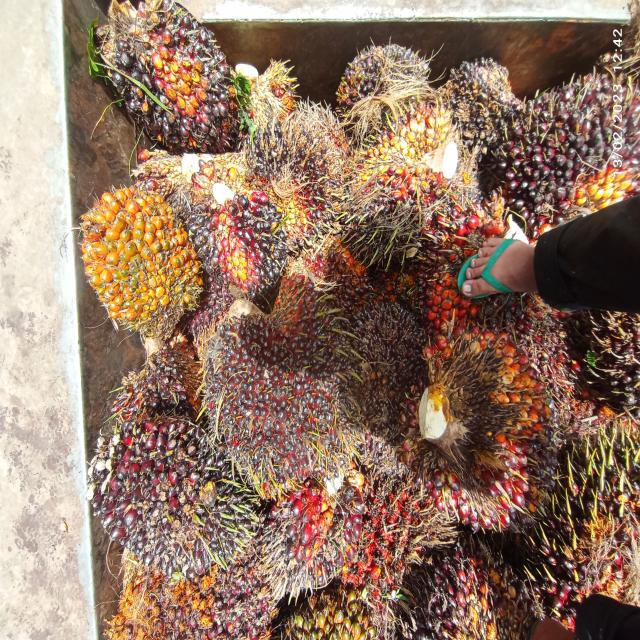fraksi 00: (90, 0, 258, 162), (335, 98, 473, 267), (178, 180, 297, 308), (243, 108, 350, 244), (336, 284, 433, 410), (332, 38, 436, 115), (441, 55, 515, 148)
fraksi 1: (393, 304, 570, 548), (187, 258, 365, 498), (88, 406, 254, 585), (492, 64, 640, 246), (263, 456, 370, 612)
fraksi 3: (410, 214, 529, 359)
fraksi 4: (60, 170, 218, 371), (346, 457, 430, 598)
